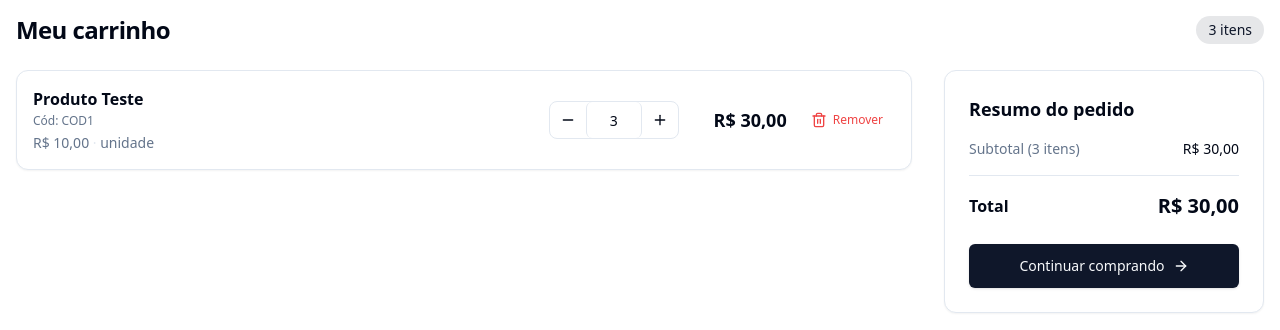
Test case: CartPage › decreases quantity with minus button
Click the button named "diminuir quantidade": (568, 120) [550,102,586,138]
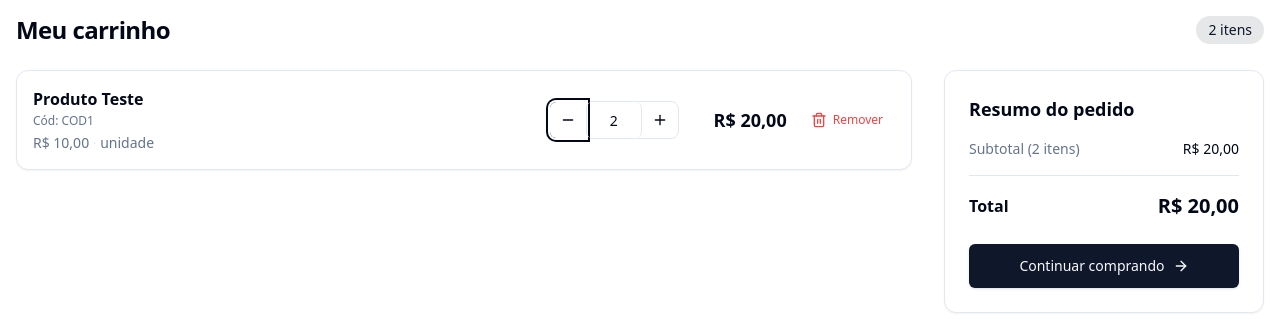
Now the number field with test id "cart-item-quantity" holds "2", box [586,102,642,138]
